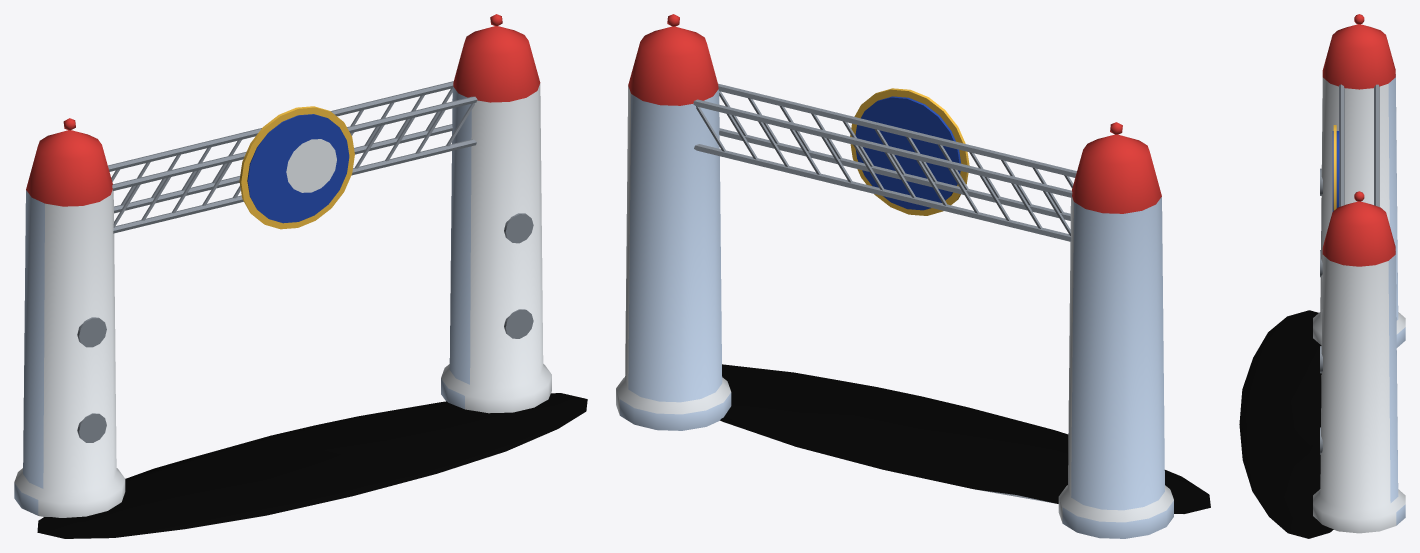
Rendered from AirlockGate.fbx.
3 views of the same model, side by side, from view 1: azimuth 30°, elevation 25°; view 2: azimuth 150°, elevation 25°; view 3: azimuth 270°, elevation 25° (orthographic). The views are drawn at different scales.
Parts seen in each view (by area): view 1: AirlockGate; view 2: AirlockGate; view 3: AirlockGate.
Boxes of the visible parts, <box> form: AirlockGate: <box>14,14,587,538</box>; AirlockGate: <box>616,14,1210,538</box>; AirlockGate: <box>1239,14,1405,538</box>.
Size of the model in its own units: 10.83 by 7.12 by 3.33.
Materials: 2 (2 with a texture image).
